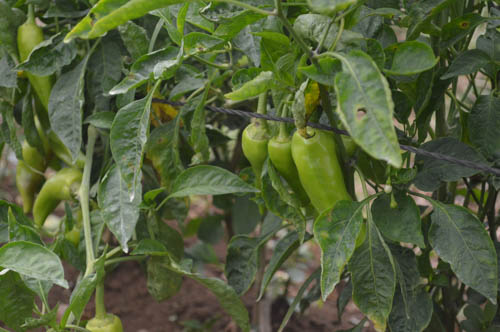ChiliPepper: (290, 132, 356, 225), (18, 26, 57, 117), (15, 135, 49, 220), (268, 140, 308, 207), (32, 172, 79, 227), (241, 129, 267, 184)
